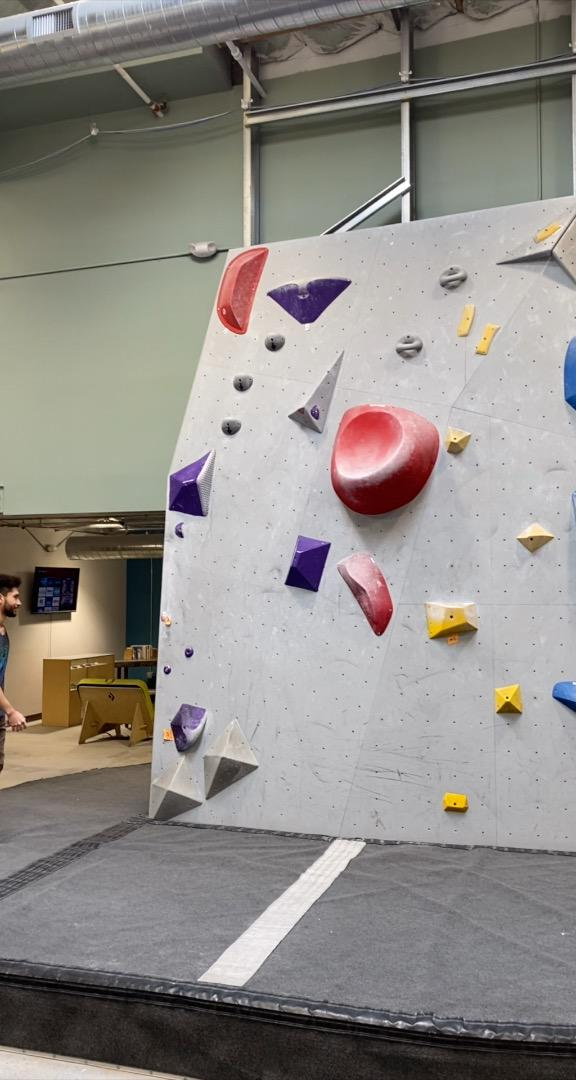holds: (329, 402, 441, 518), (336, 551, 396, 638), (215, 246, 270, 335), (266, 277, 353, 326), (167, 447, 218, 518), (283, 534, 332, 594), (423, 600, 480, 641), (169, 702, 209, 753), (515, 520, 556, 555), (562, 330, 575, 427), (551, 679, 575, 725), (493, 683, 524, 715), (474, 321, 502, 356), (444, 425, 473, 456), (569, 481, 575, 609), (532, 221, 563, 245), (437, 264, 468, 288), (457, 302, 477, 337), (441, 791, 469, 814), (394, 333, 423, 355), (263, 332, 286, 353), (232, 374, 254, 393), (221, 418, 242, 436), (174, 521, 187, 540), (310, 404, 320, 420), (184, 646, 195, 659), (160, 610, 170, 624), (163, 664, 173, 676), (298, 406, 305, 415)
